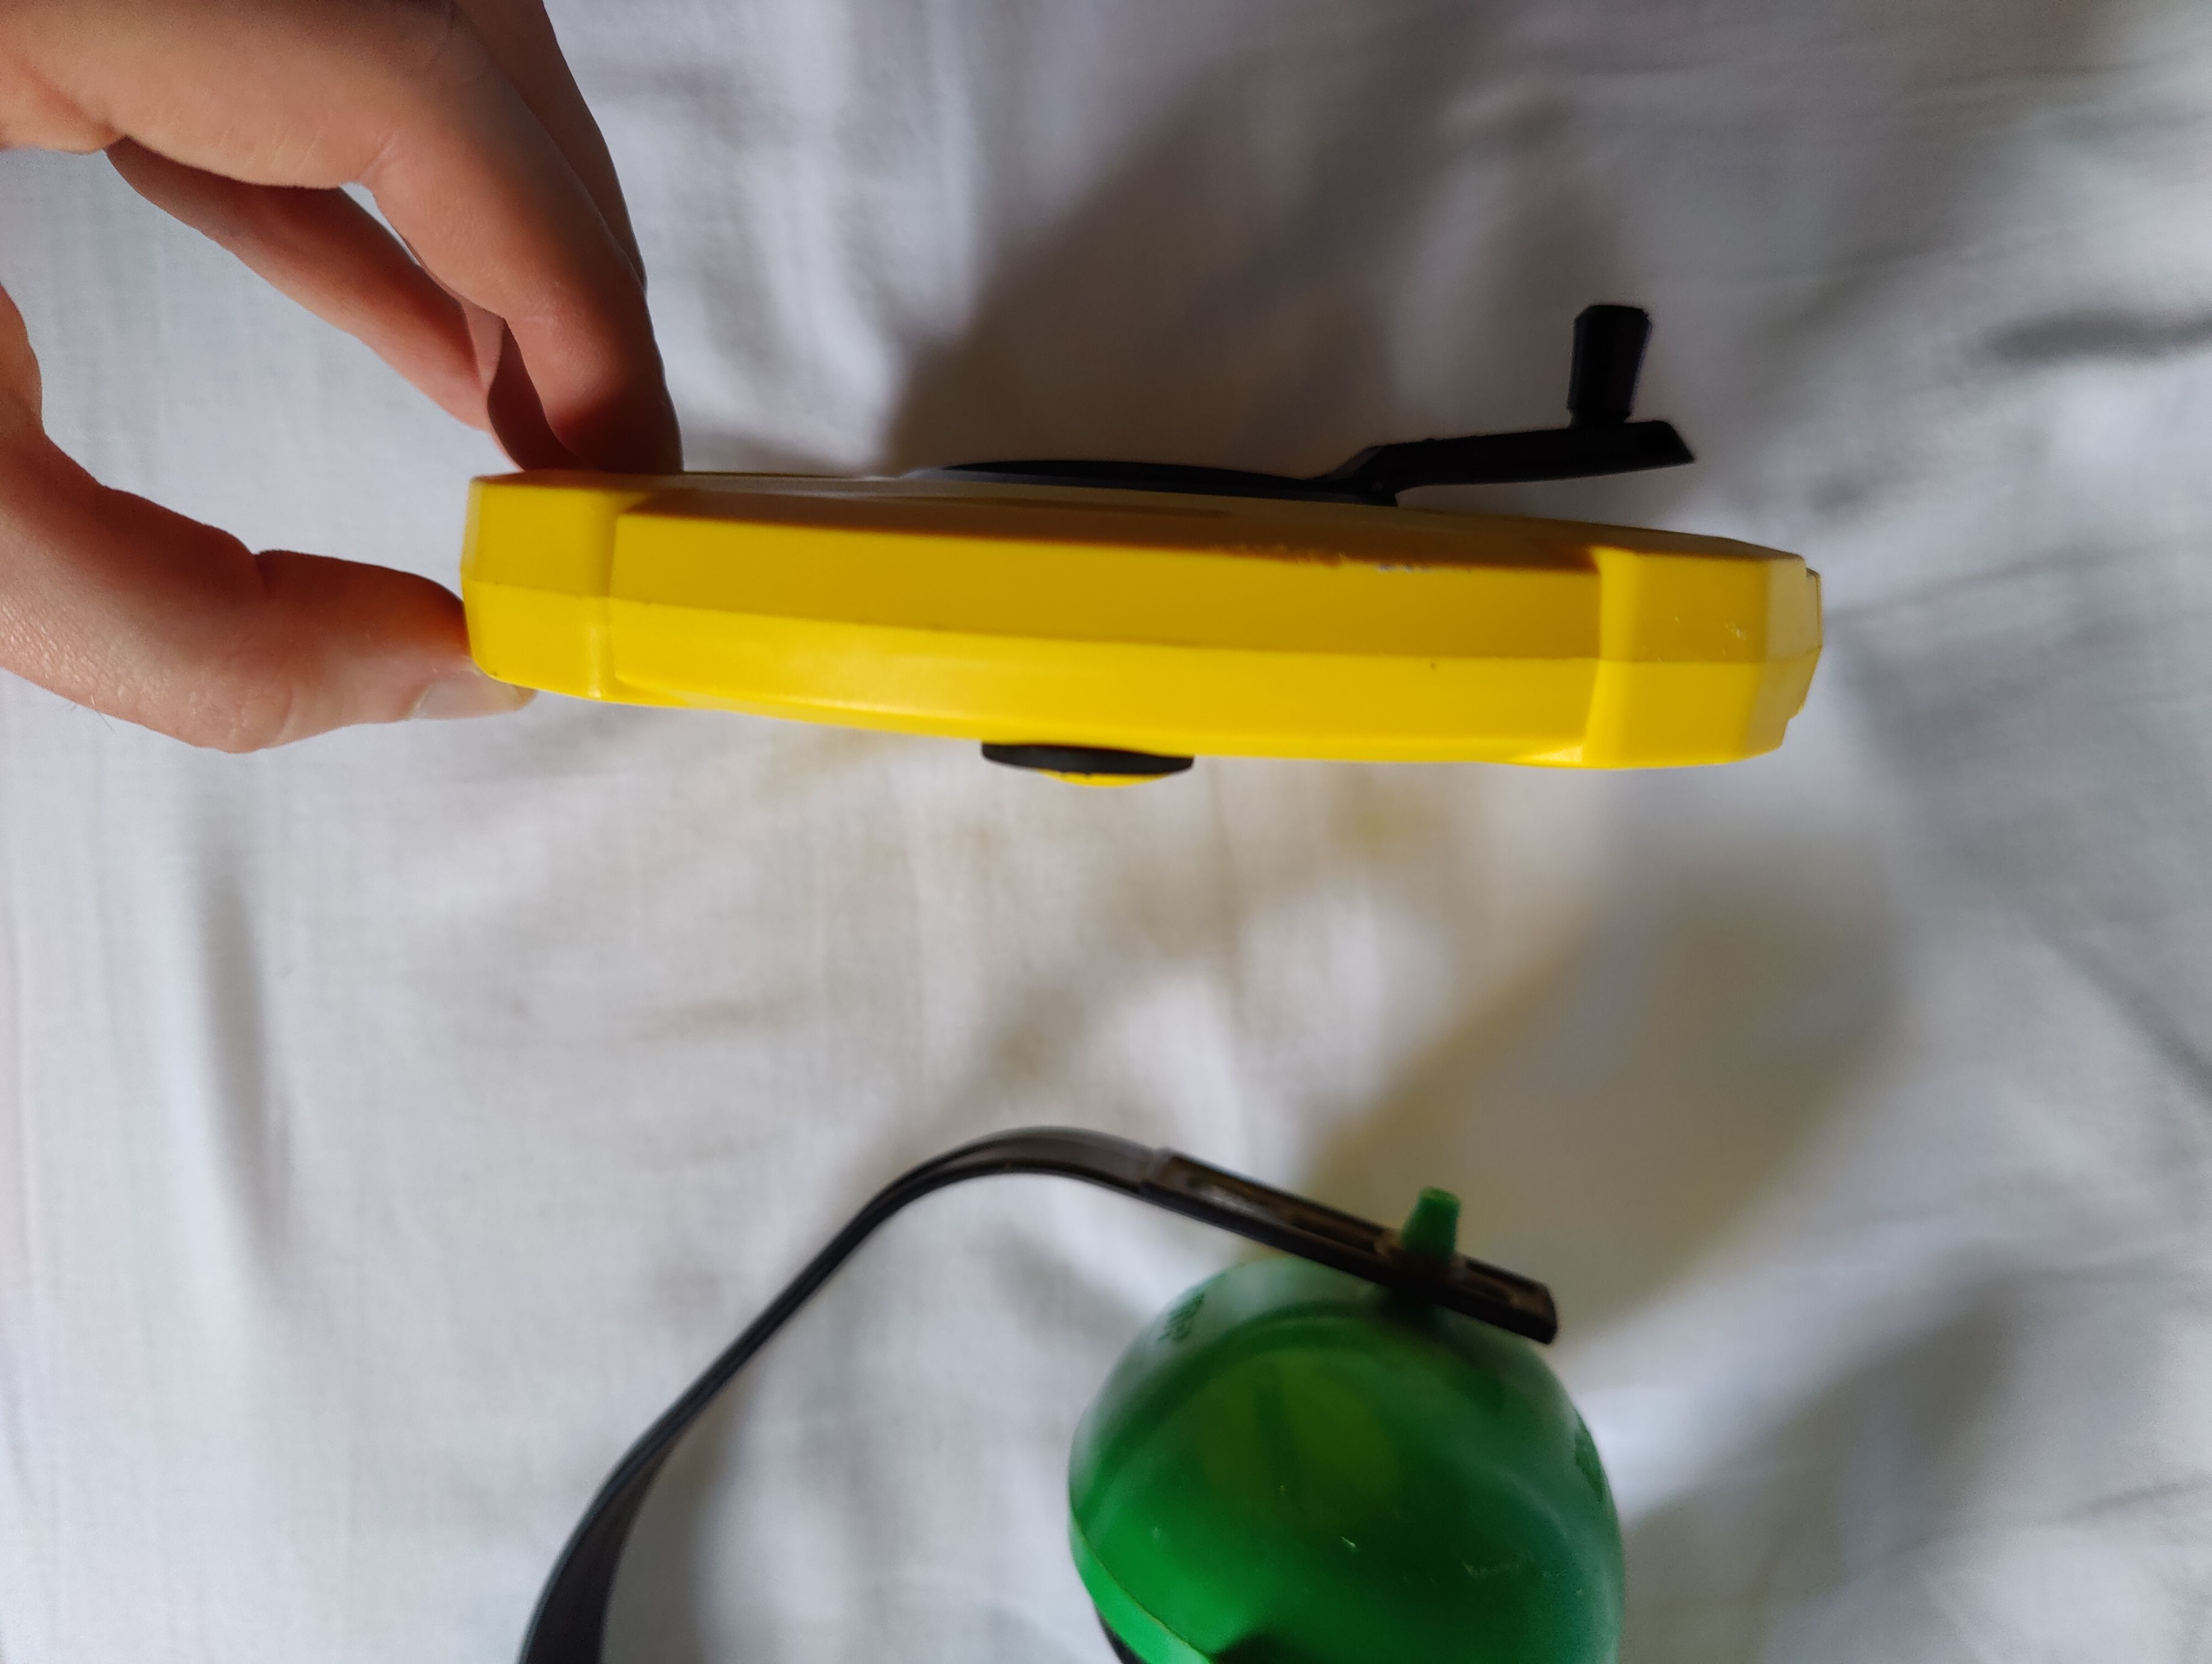headphones: (510, 1126, 1634, 1661)
tapemeasure: (453, 304, 1821, 781)
